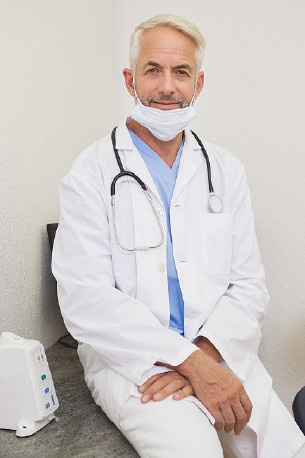Mask: (128, 54, 203, 130)
